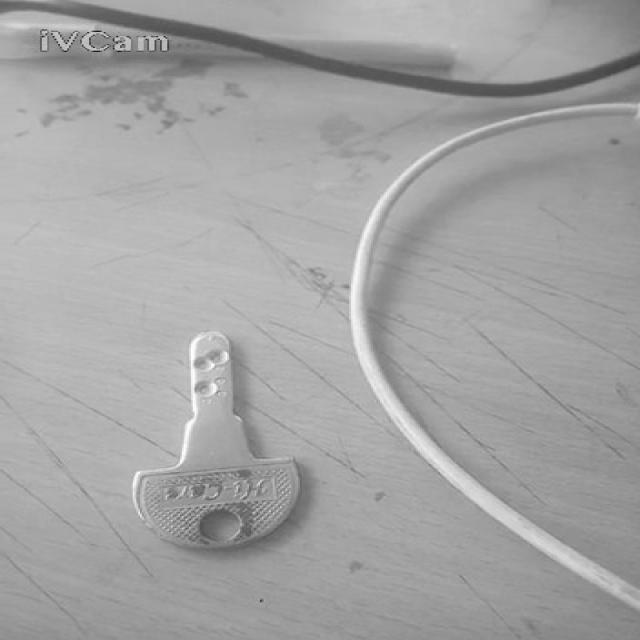key: (133, 332, 300, 550)
